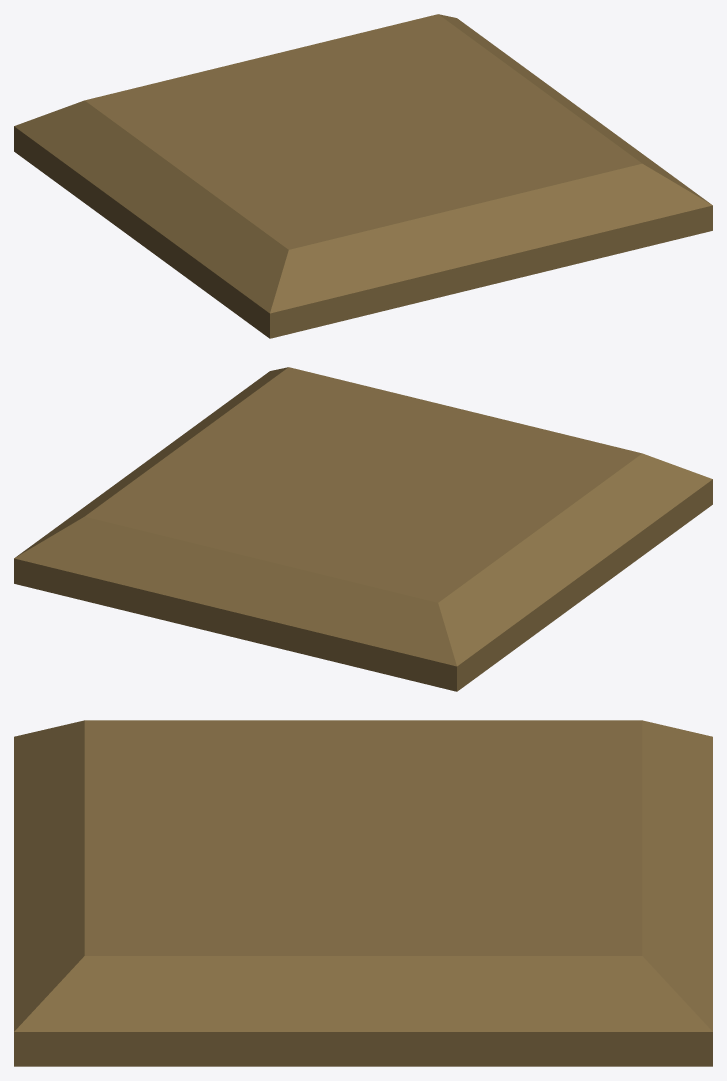
File: Itr_Table5_Top_01.FBX
3 renders of one model, top to bottom at view 1: azimuth 30°, elevation 25°; view 2: azimuth 150°, elevation 25°; view 3: azimuth 270°, elevation 25°, orthographic. The views are drawn at different scales.
Parts seen in each view (by area): view 1: Itr_Table5_Top_01; view 2: Itr_Table5_Top_01; view 3: Itr_Table5_Top_01.
Boxes of the visible parts, bbox=[...] form: Itr_Table5_Top_01: bbox=[14, 14, 712, 338]; Itr_Table5_Top_01: bbox=[14, 367, 712, 691]; Itr_Table5_Top_01: bbox=[14, 720, 712, 1066].
Bounding box in the file's own units: 40.13 × 5.12 × 40.15.
